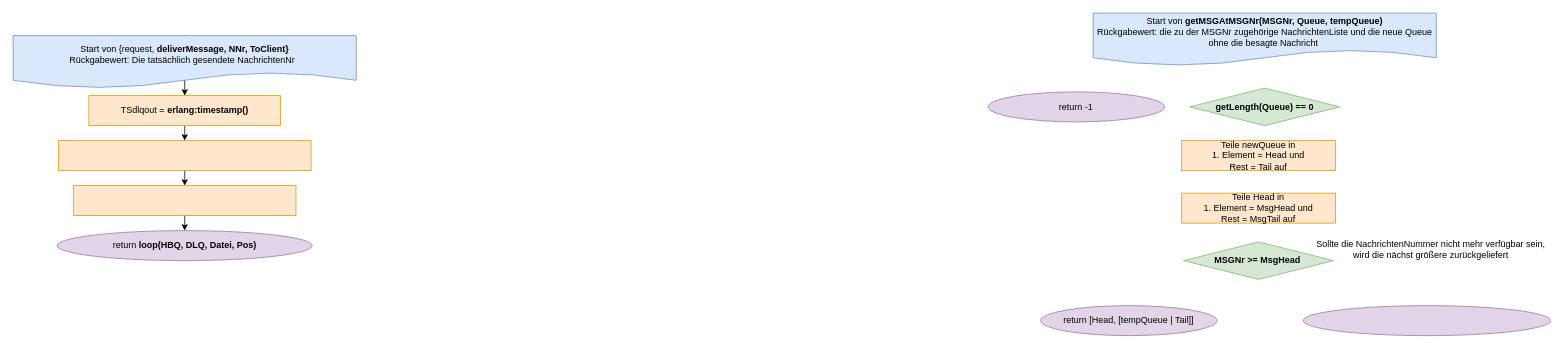
This 1564x349 diagram has some shape labels left out. The shapes that lost their labels are listed below. From the top down, each one's centre as x and y in pixels, then its label:
point (184, 155): SendeNr = dlq:deliverMSG(Nnr, ToClient, DLQ, Datei)
point (184, 200): From ! {reply, SendeNr}
point (1426, 320): getMSGAtMSGNr(MSGNr, Tail, [tempQueue | Head])
